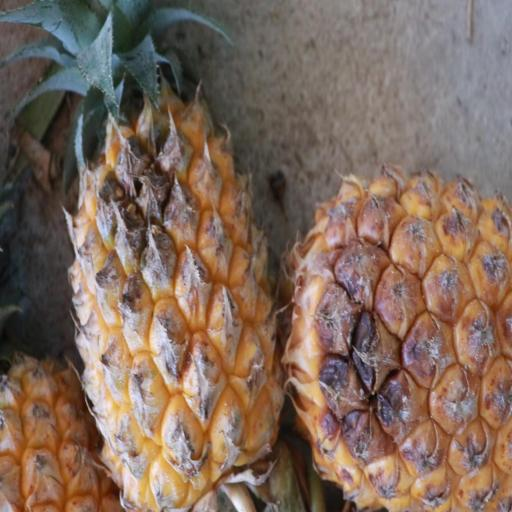Pineapple - v8 v1: (64, 4, 285, 512), (282, 162, 512, 512)
